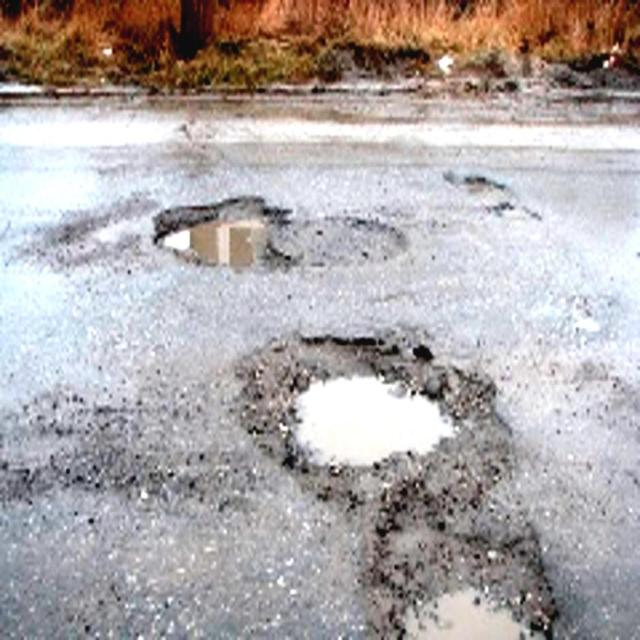pothole: (237, 330, 502, 482), (371, 481, 558, 640), (155, 196, 285, 274), (446, 163, 530, 230)
